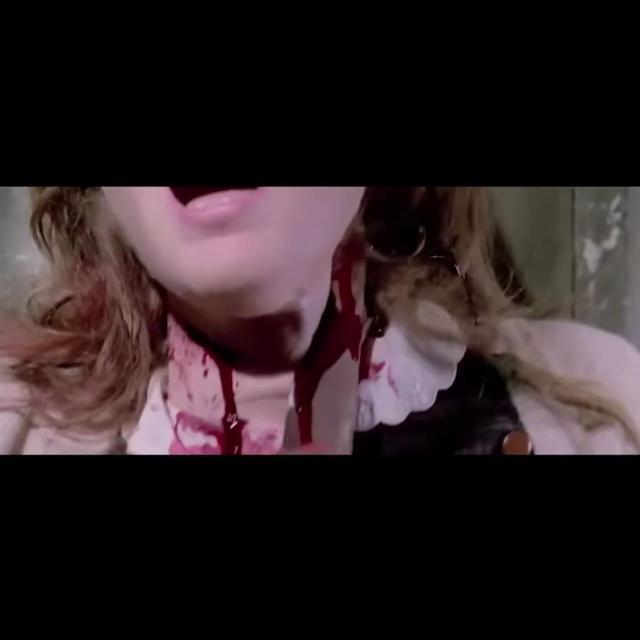blood: (158, 190, 418, 455)
